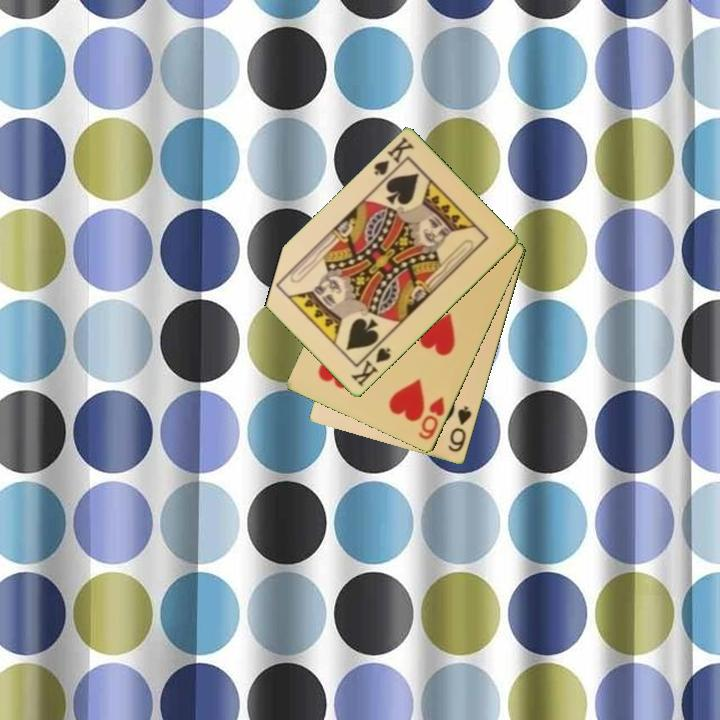6h: (415, 393, 448, 443)
6s: (445, 403, 475, 455)
Ks: (347, 339, 394, 390), (370, 134, 417, 185)
